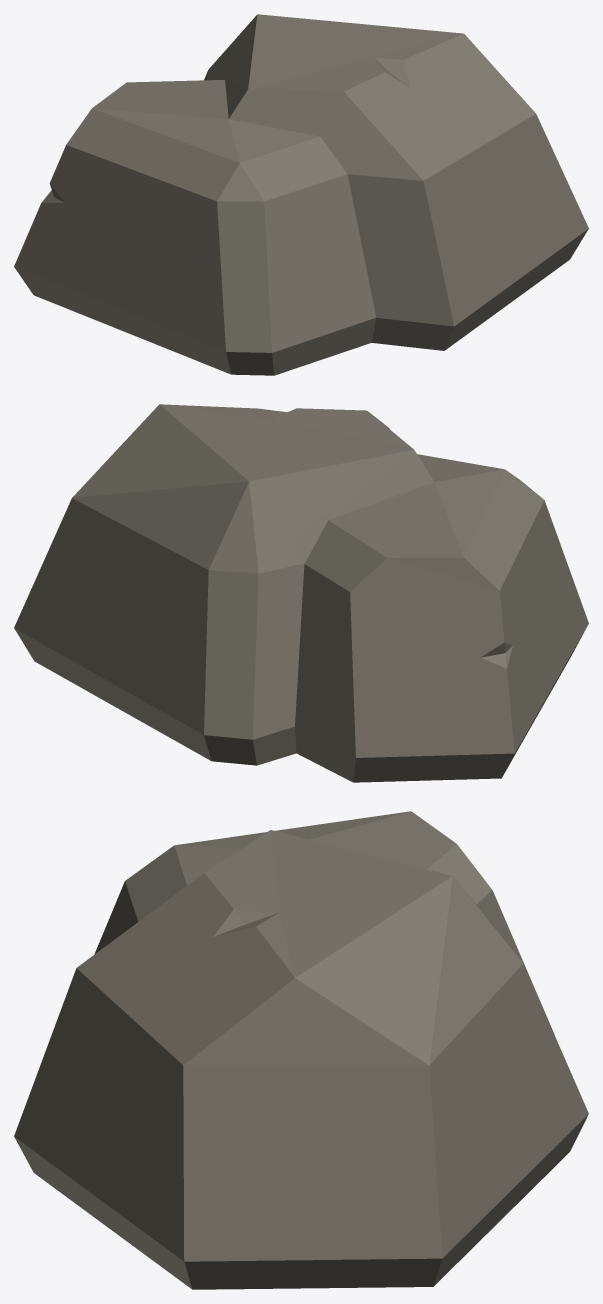
File: rock__rock10_cave_light.glb
3 renders of one model, top to bottom at view 1: azimuth 30°, elevation 25°; view 2: azimuth 150°, elevation 25°; view 3: azimuth 270°, elevation 25°, orthographic. The views are drawn at different scales.
Visible parts, largest first — view 1: rock10.cave.light; view 2: rock10.cave.light; view 3: rock10.cave.light.
Part boxes in pixels (x1,y1,x2,y2): rock10.cave.light: (14, 14, 588, 375); rock10.cave.light: (14, 404, 588, 782); rock10.cave.light: (14, 811, 588, 1289).
Bounding box in the file's own units: 2.77 × 1.25 × 2.3.
Materials: 1 (1 with a texture image).
